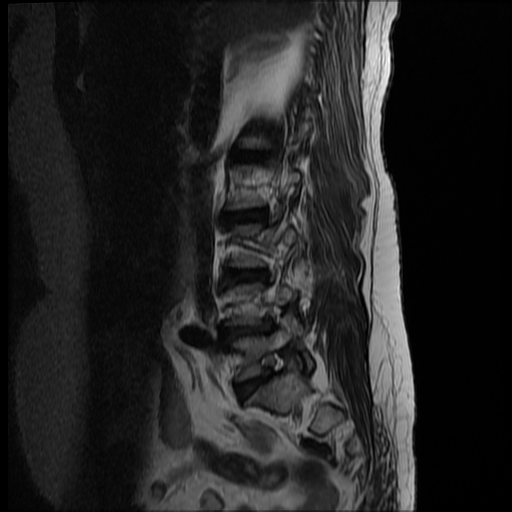RFS0: (253, 342, 301, 385)
